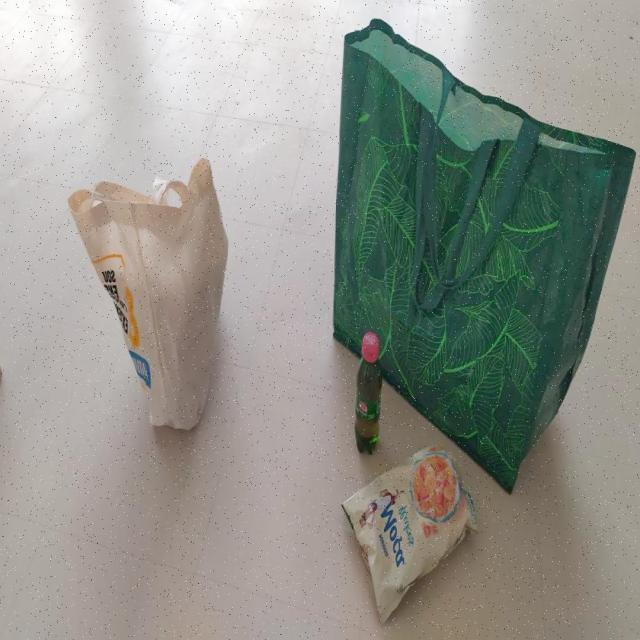Bag: (329, 12, 636, 503), (69, 161, 228, 442)
CornFlakes: (331, 448, 478, 628)
Guarana: (354, 330, 381, 452)
